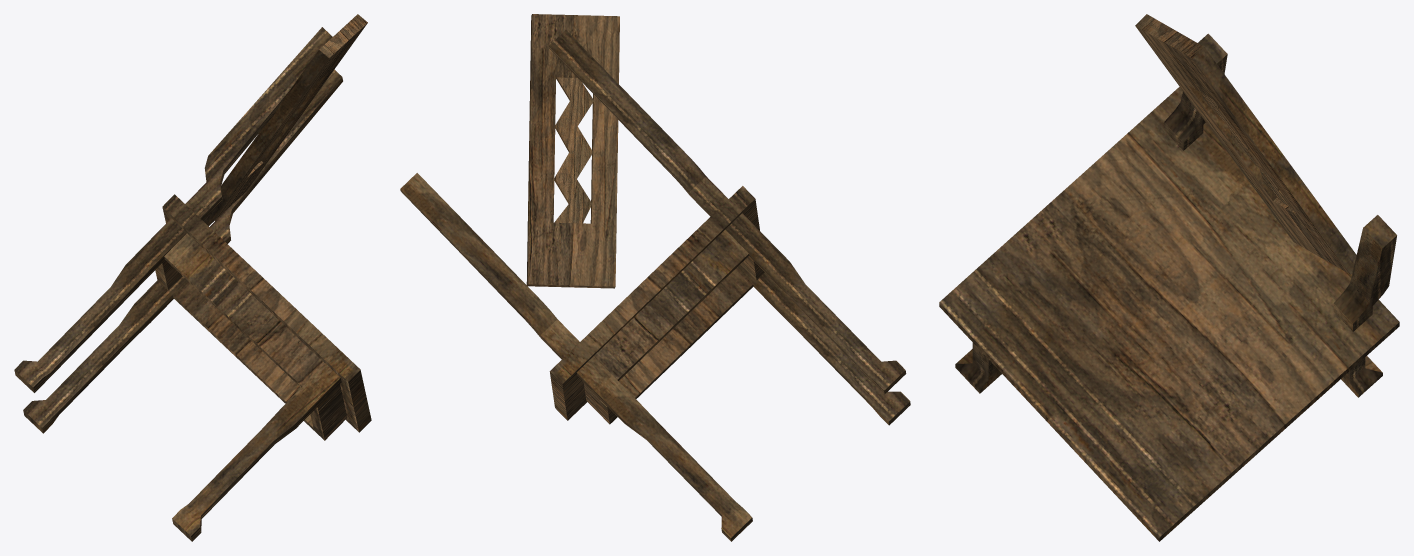
Rendered from desert_ruins_chair.fbx.
3 renders of one model, left to right at view 1: azimuth 30°, elevation 25°; view 2: azimuth 150°, elevation 25°; view 3: azimuth 270°, elevation 25°, orthographic. The views are drawn at different scales.
Parts seen in each view (by area): view 1: Mesh; view 2: Mesh; view 3: Mesh.
Part boxes in pixels (x1,y1,x2,y2): Mesh: (14,14,371,541); Mesh: (400,14,910,541); Mesh: (939,14,1399,541).
Bounding box in the file's own units: 113 × 107 × 88.17.
